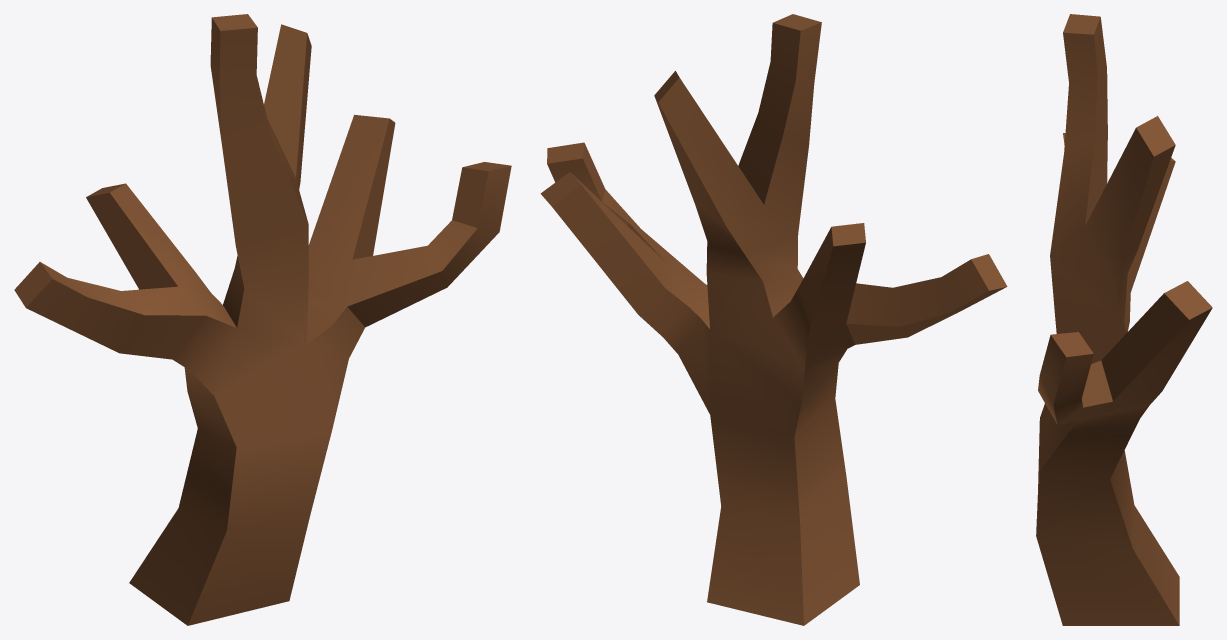
Rendered from DeadTree_1.glb.
3 views of the same model, side by side, from view 1: azimuth 30°, elevation 25°; view 2: azimuth 150°, elevation 25°; view 3: azimuth 270°, elevation 25° (orthographic). The views are drawn at different scales.
Parts seen in each view (by area): view 1: DeadTree_1; view 2: DeadTree_1; view 3: DeadTree_1.
Boxes of the visible parts, <box> form: DeadTree_1: <box>14,14,511,625</box>; DeadTree_1: <box>540,14,1007,625</box>; DeadTree_1: <box>1036,14,1212,625</box>.
Size of the model in its own units: 4.33 by 5 by 1.38.
1 material, 1 textured.
